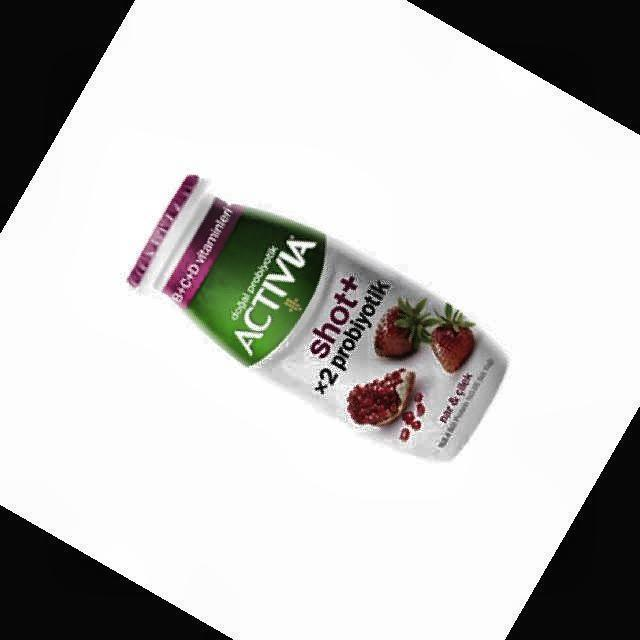plastic: (128, 176, 508, 461)
